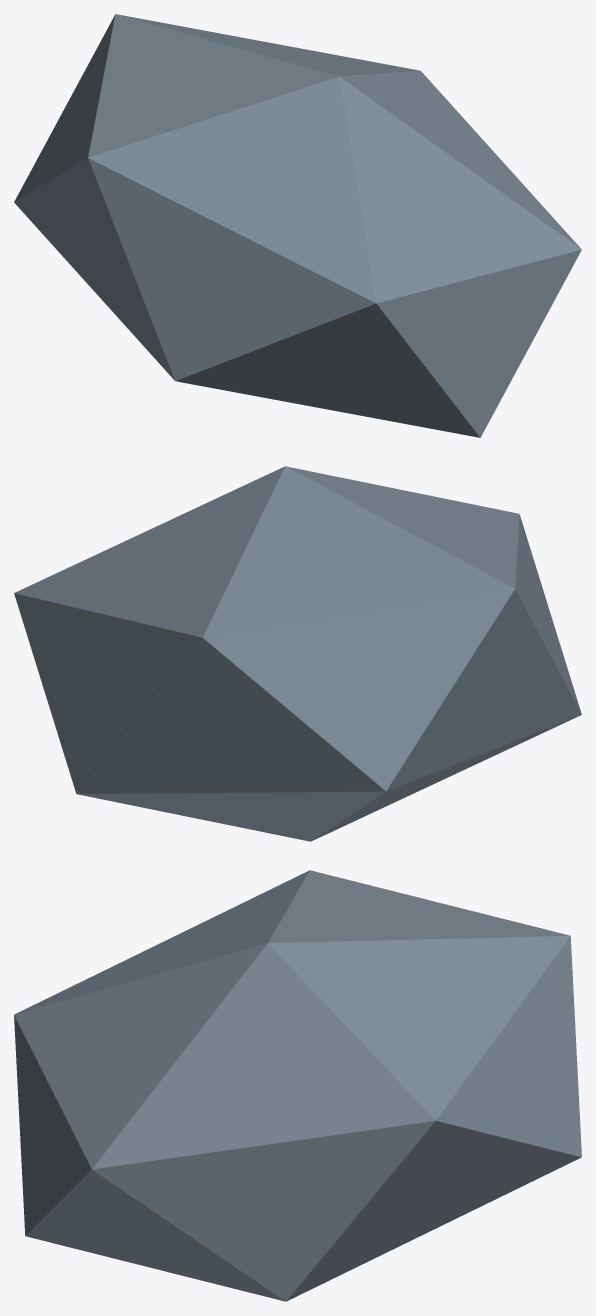
File: INT_C_WallRubble_02_Stone_3.glb
3 views of the same model, one above another, from view 1: azimuth 30°, elevation 25°; view 2: azimuth 150°, elevation 25°; view 3: azimuth 270°, elevation 25° (orthographic). The views are drawn at different scales.
Visible parts, largest first — view 1: INT_C_WallRubble_02_Stone_3; view 2: INT_C_WallRubble_02_Stone_3; view 3: INT_C_WallRubble_02_Stone_3.
Boxes of the visible parts, x1,y1,x2,y2 form: INT_C_WallRubble_02_Stone_3: [14, 14, 581, 437]; INT_C_WallRubble_02_Stone_3: [14, 466, 581, 841]; INT_C_WallRubble_02_Stone_3: [14, 870, 581, 1301].
Size of the model in its own units: 0.2315 by 0.1668 by 0.2756.
